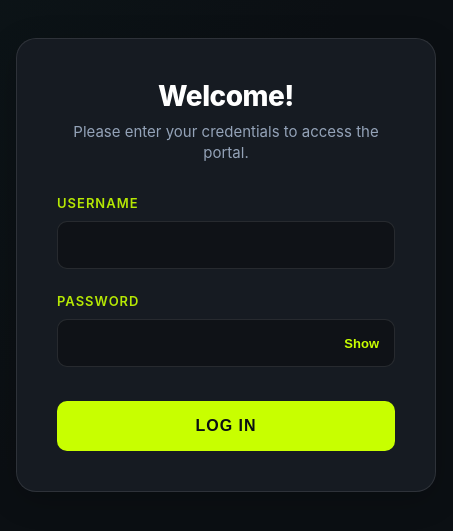
Login › clears password error when user starts typing
Click the button "Log in" at coordinates (226, 426), box top-left (57, 401), bottom-right (395, 451)
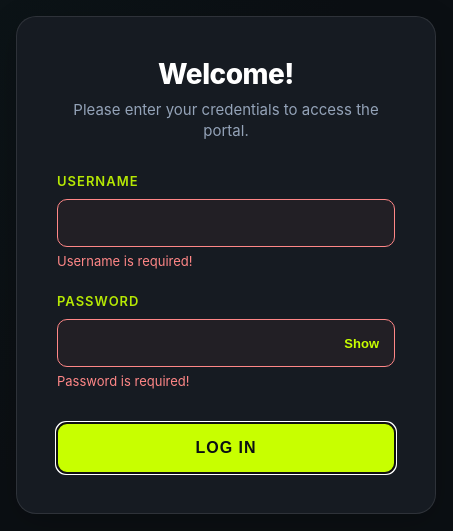
Now the text "Password is required!" is shown, box top-left (57, 373), bottom-right (190, 389)
Type "pass" into the password field labelled "Password" at coordinates (226, 343), box top-left (57, 319), bottom-right (395, 367)
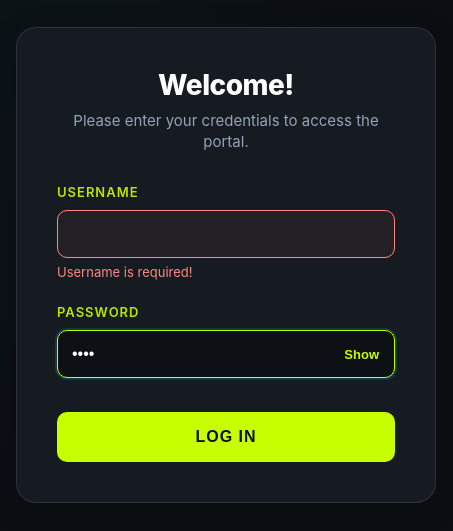
Now the text "Password is required!" is gone
